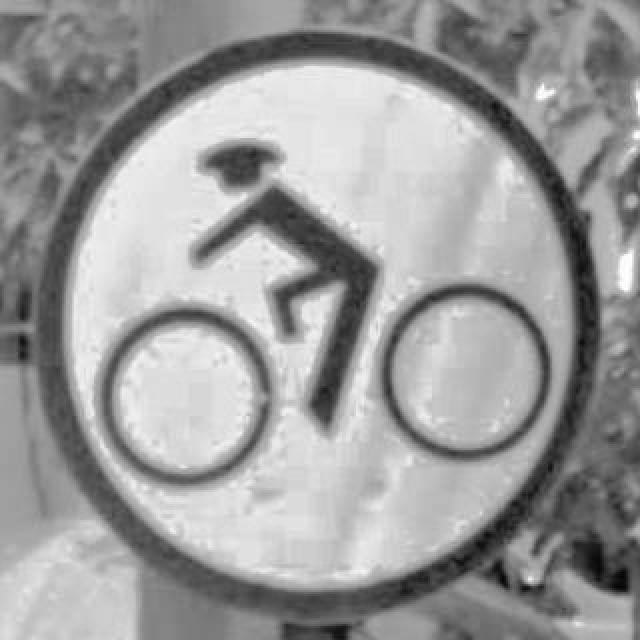bike lane: (34, 28, 602, 616)
